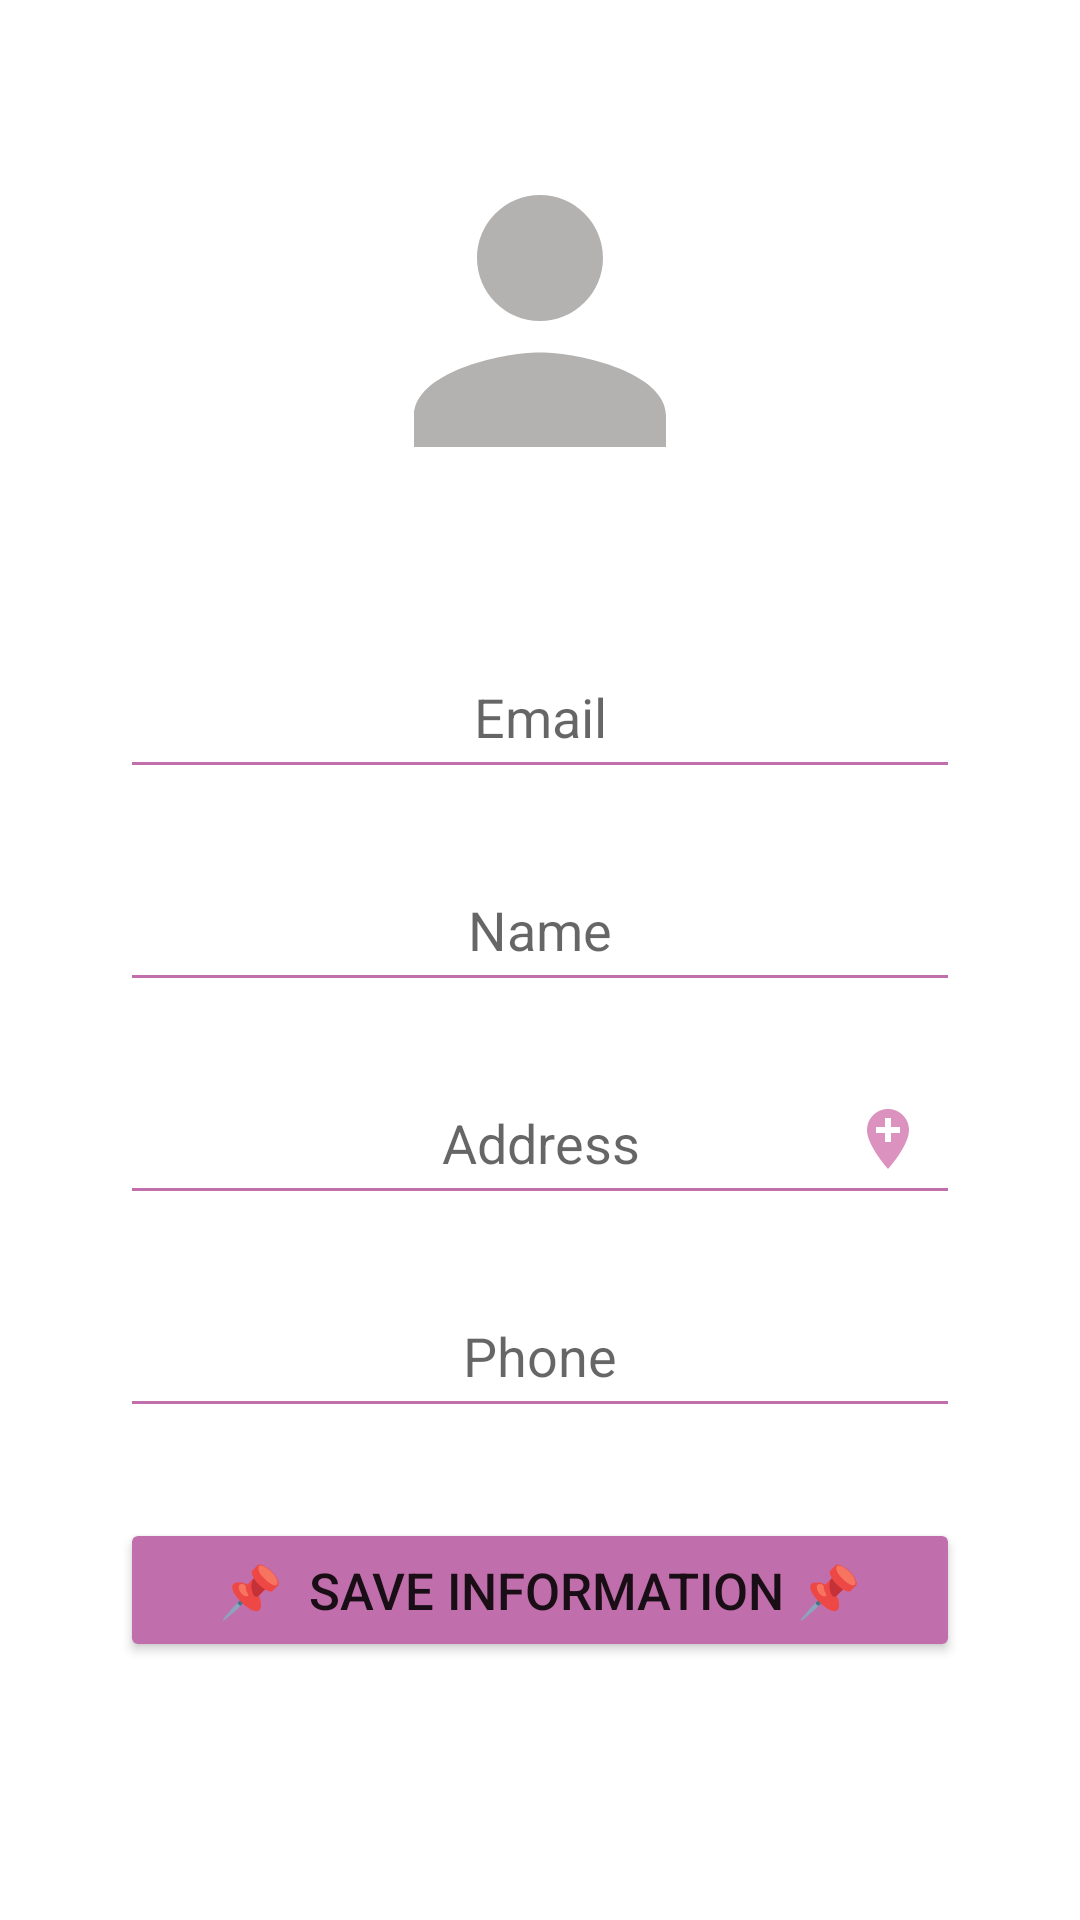

Named icons in this screenshot (1080px×1920px) and their bounding boxes, (x1,y1,x2,y2):
add location: (867,1109,909,1169)
person: (414,195,666,447)
